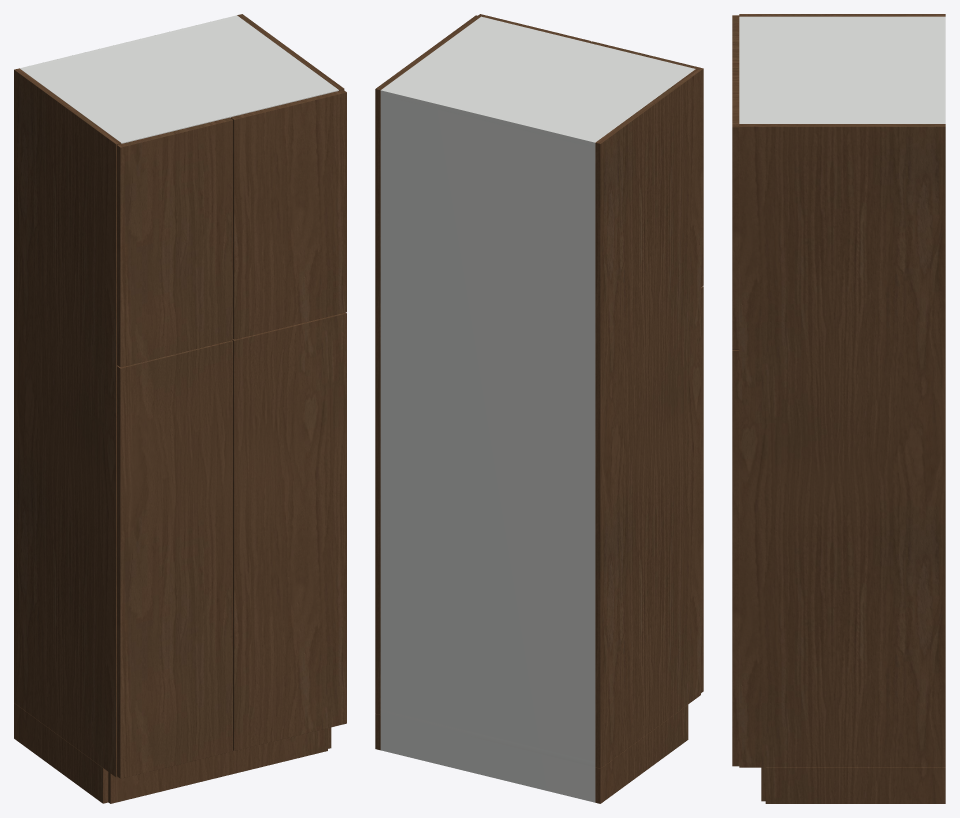
The model's file is bvc-2074.glb.
The picture shows the model from 3 angles, left to right: view 1: azimuth 30°, elevation 25°; view 2: azimuth 150°, elevation 25°; view 3: azimuth 270°, elevation 25°; orthographic projection. The views are drawn at different scales.
Visible parts, largest first — view 1: Cabinet side, Door, Door.001, Door.002, Door.003, Cabinet top, Recessed toe board, Recessed side plinth, Cabinet side.001; view 2: Cabinet back, Cabinet side, Cabinet top, Cabinet side.001, Recessed side plinth, Door, Cabinet bottom, Door.002; view 3: Cabinet side.001, Cabinet top, Recessed side plinth.001, Door.001, Door.003, Cabinet side, Cabinet back, Door.002.
Boxes of the visible parts, box(x1,y1,x2,y2) form: Cabinet side: box(14, 68, 121, 777); Door: box(117, 340, 232, 778); Door.001: box(232, 312, 346, 750); Door.002: box(117, 117, 232, 367); Door.003: box(230, 90, 346, 339); Cabinet top: box(21, 16, 338, 143); Recessed toe board: box(108, 728, 327, 803); Recessed side plinth: box(14, 703, 108, 803); Cabinet side.001: box(237, 14, 344, 90); Cabinet back: box(380, 89, 596, 802); Cabinet side: box(595, 69, 700, 768); Cabinet top: box(380, 16, 695, 147); Cabinet side.001: box(375, 15, 480, 714); Recessed side plinth: box(595, 705, 688, 803); Door: box(701, 286, 703, 692); Cabinet bottom: box(381, 710, 595, 766); Door.002: box(590, 41, 703, 286); Cabinet side.001: box(739, 124, 945, 767); Cabinet top: box(739, 16, 941, 123); Recessed side plinth.001: box(765, 767, 945, 803); Door.001: box(732, 350, 739, 766); Door.003: box(732, 71, 739, 349); Cabinet side: box(739, 14, 945, 16); Cabinet back: box(941, 16, 945, 123); Door.002: box(732, 15, 739, 71).
Bounding box in the file's own units: 0.762 × 2.13 × 0.6096.
2 materials, 1 textured.
